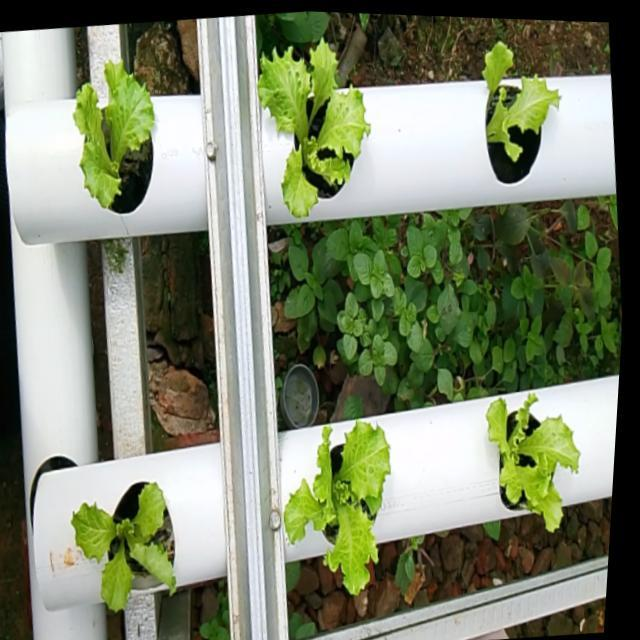Baby: (255, 33, 367, 215), (280, 417, 386, 591), (67, 475, 173, 607), (482, 392, 575, 531), (71, 56, 152, 209), (480, 43, 557, 185)
